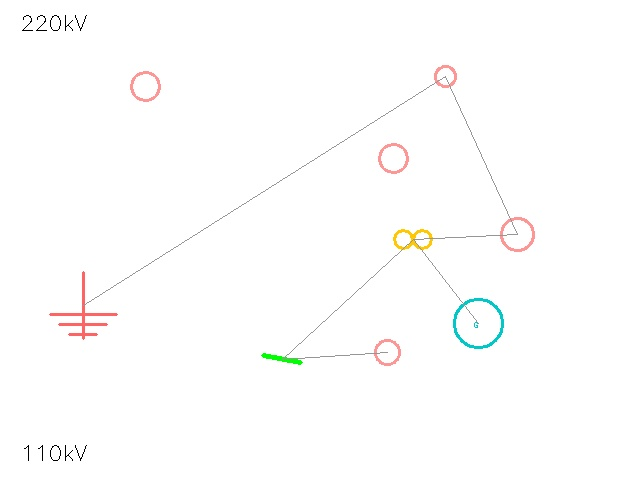busbar: (259, 336, 305, 382)
current_transformer: (484, 201, 550, 267), (117, 58, 173, 114)
disconnect_switch: (363, 328, 411, 376), (424, 55, 466, 97)
generator: (454, 299, 502, 347)
ground: (50, 272, 116, 338)
surge_arrester: (364, 129, 422, 187)
transformer_2w: (389, 215, 437, 263)
